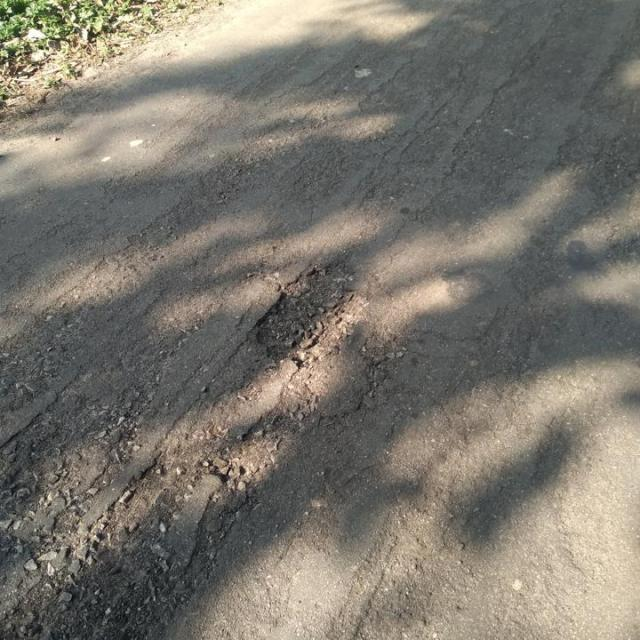Pothole: (250, 259, 374, 371)
